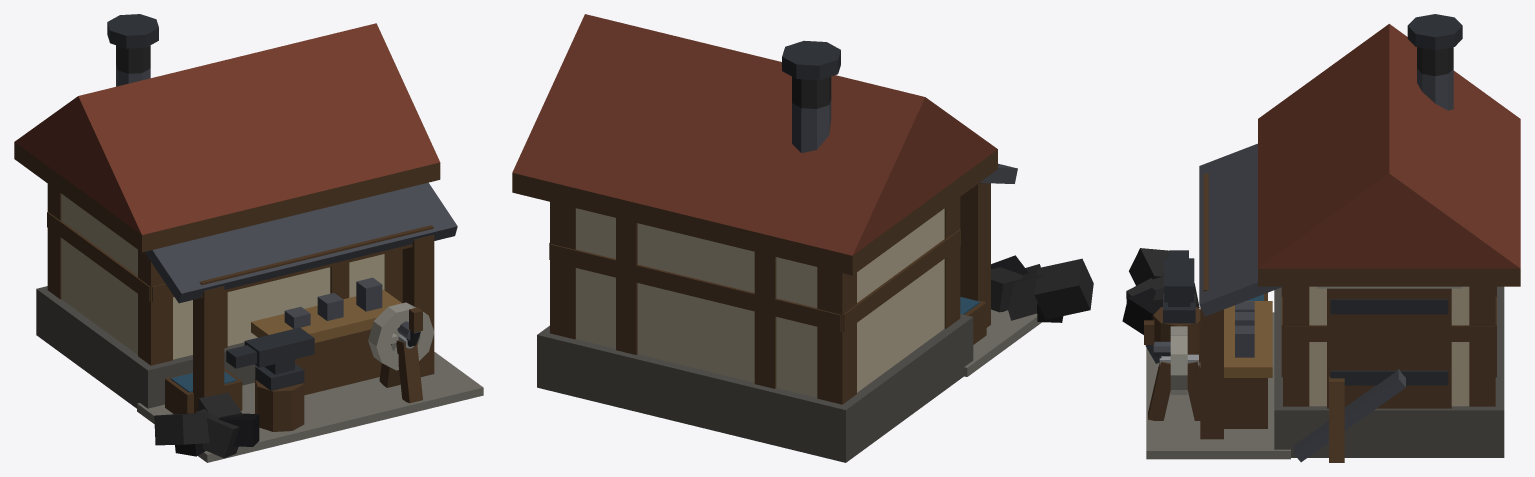
File: workshop_small.glb
3 renders of one model, left to right at view 1: azimuth 30°, elevation 25°; view 2: azimuth 150°, elevation 25°; view 3: azimuth 270°, elevation 25°, orthographic. The views are drawn at different scales.
Visible parts, largest first — view 1: Cube.015, Cube.025, Cube.001, Cube.020, Cube, Cube.014, Cube.027, Cube.021, Cube.002, Cube.023, Cube.028, Cylinder.003 (+19 smaller); view 2: Cube.015, Cube.001, Cube, Cube.014, Cube.009, Cube.003, Cube.021, Cube.005, Cube.010, Cube.011, Cube.062, Cube.012 (+7 smaller); view 3: Cube.015, Cube, Cube.016, Cube.025, Cube.020, Cube.014, Cube.001, Cube.023, Cube.005, Cube.004, Cube.028, Cube.027 (+19 smaller).
Part boxes in pixels (x1,y1,x2,y2): Cube.015: (14,23,439,234); Cube.025: (144,182,457,303); Cube.001: (61,194,384,359); Cube.020: (137,352,483,462); Cube: (36,286,256,408); Cube.014: (14,142,440,252); Cube.027: (295,329,381,395); Cube.021: (193,286,224,413); Cube.002: (138,250,172,365); Cube.023: (402,235,434,376); Cube.028: (251,289,401,342); Cylinder.003: (255,378,304,431); Cube.015: (512,14,997,255); Cube.001: (576,208,944,397); Cube: (537,314,973,462); Cube.014: (512,149,997,275); Cube.009: (550,244,841,332); Cube.003: (817,267,856,404); Cube.021: (960,183,990,327); Cube.005: (550,202,575,339); Cube.010: (754,252,776,388); Cube.011: (616,218,637,354); Cube.062: (1034,258,1093,319); Cube.012: (843,229,960,331); Cube.015: (1258,24,1520,268); Cube: (1274,286,1504,457); Cube.016: (1327,288,1451,408); Cube.025: (1199,143,1282,316); Cube.020: (1146,312,1290,459); Cube.014: (1258,268,1520,286); Cube.001: (1309,286,1469,406); Cube.023: (1200,307,1223,439); Cube.005: (1469,286,1495,406); Cube.004: (1283,286,1309,406); Cube.028: (1224,301,1272,377); Cube.027: (1224,378,1267,428).
Bounding box in the file's own units: 63.25 × 55.2 × 60.66.
